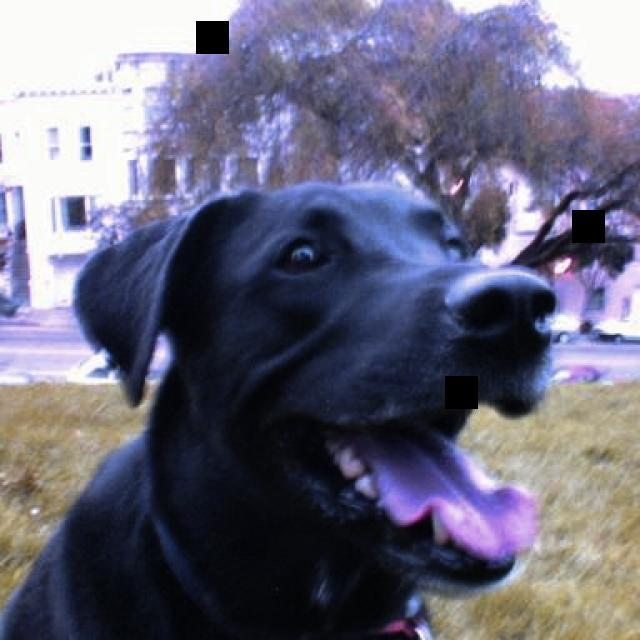adult_dog: (2, 177, 562, 636)
